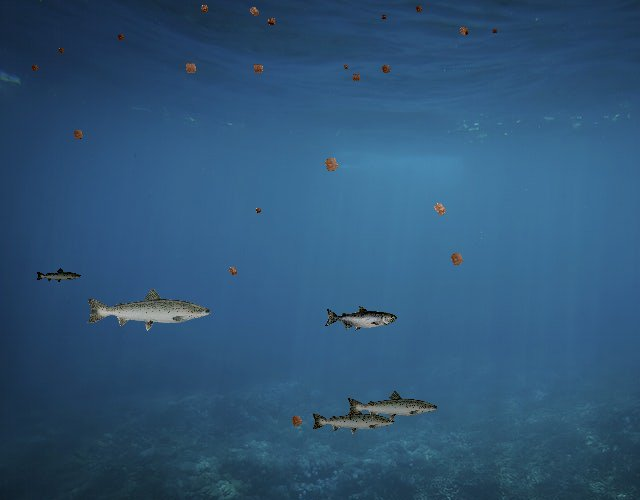Fish: (84, 286, 213, 332), (345, 390, 439, 424), (310, 405, 396, 436), (325, 305, 398, 332), (35, 268, 82, 285)
Pellet: (426, 196, 453, 223), (444, 246, 469, 272), (179, 56, 202, 79), (286, 410, 308, 432), (224, 262, 242, 280), (114, 30, 128, 44), (252, 205, 264, 217)
